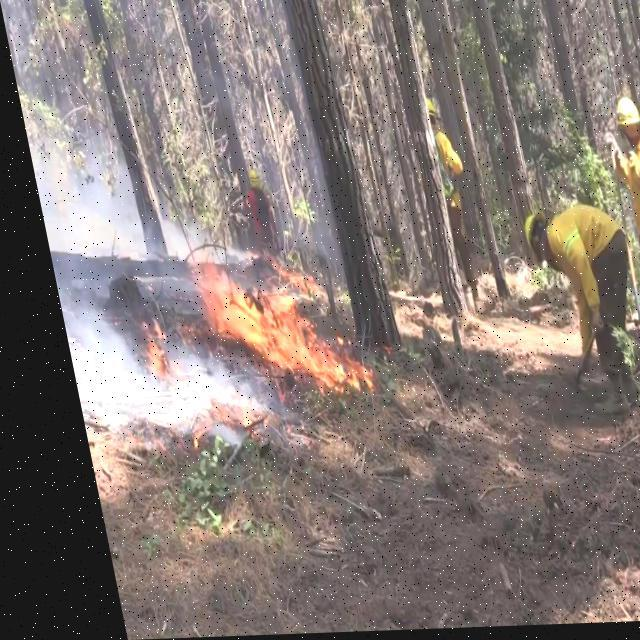Fire: (176, 254, 363, 398), (166, 408, 247, 448), (256, 257, 310, 302), (124, 338, 156, 384)
